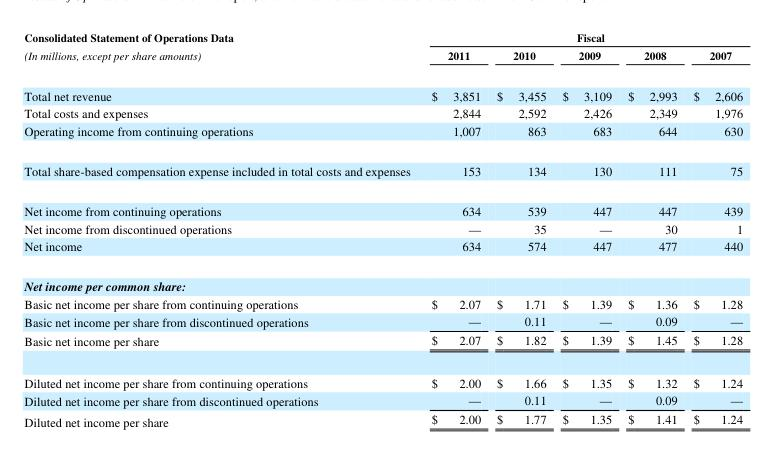table: (23, 29, 742, 429)
table column: (23, 29, 420, 429), (420, 29, 488, 429), (553, 29, 619, 429), (488, 29, 553, 429), (619, 29, 684, 429), (684, 29, 742, 429)
table column header: (23, 29, 742, 74)
table projected row header: (23, 265, 742, 294)
table row: (23, 150, 742, 190), (23, 330, 742, 361), (23, 45, 742, 74), (23, 74, 742, 103), (23, 121, 742, 150), (23, 190, 742, 219), (23, 236, 742, 265), (23, 265, 742, 294), (23, 361, 742, 390), (23, 409, 742, 429), (23, 311, 742, 330), (23, 390, 742, 409), (23, 103, 742, 121), (23, 219, 742, 236), (23, 294, 742, 311), (23, 29, 742, 45)
table spanning cell: (23, 29, 420, 74), (420, 29, 742, 45)
